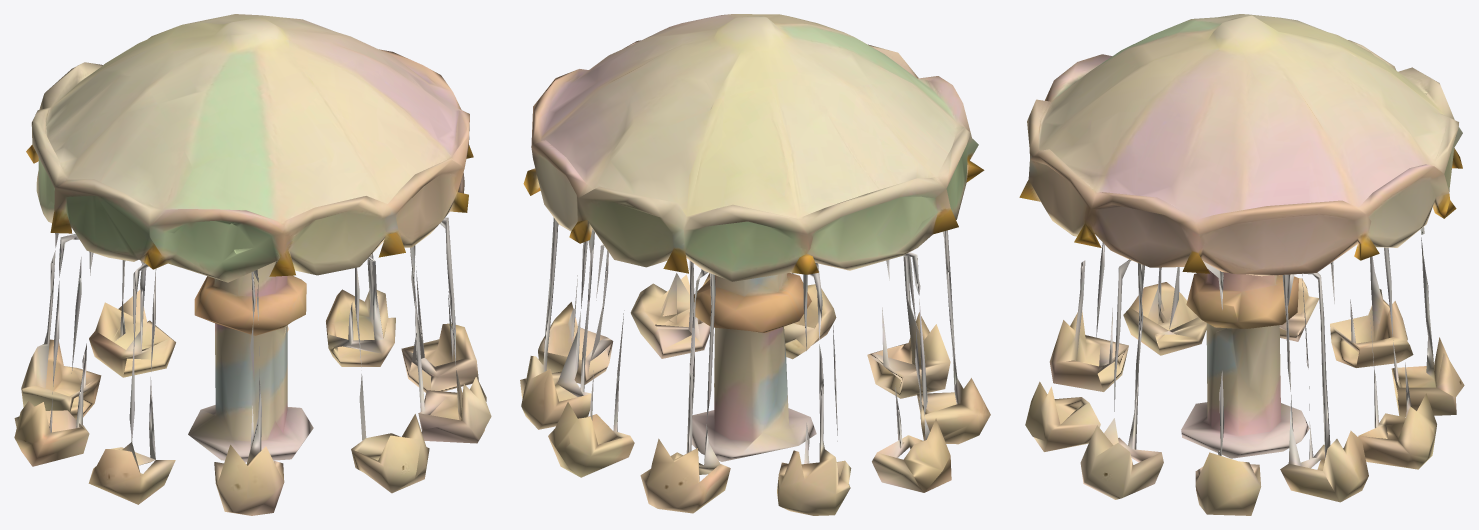
File: chaises-volantes.glb
3 views of the same model, side by side, from view 1: azimuth 30°, elevation 25°; view 2: azimuth 150°, elevation 25°; view 3: azimuth 270°, elevation 25° (orthographic).
Parts seen in each view (by area): view 1: tripo_node_5dd438a9-924f-42a9-84cd-ec707ec1ed45; view 2: tripo_node_5dd438a9-924f-42a9-84cd-ec707ec1ed45; view 3: tripo_node_5dd438a9-924f-42a9-84cd-ec707ec1ed45.
Boxes of the visible parts, <box> form: tripo_node_5dd438a9-924f-42a9-84cd-ec707ec1ed45: <box>14,14,491,515</box>; tripo_node_5dd438a9-924f-42a9-84cd-ec707ec1ed45: <box>520,14,990,515</box>; tripo_node_5dd438a9-924f-42a9-84cd-ec707ec1ed45: <box>1019,14,1464,515</box>.
Size of the model in its own units: 1 by 0.927 by 0.9111.
Materials: 1 (1 with a texture image).
